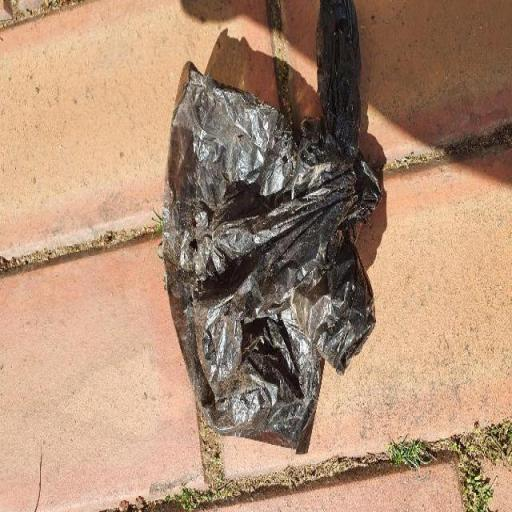plastic-bag: (165, 0, 384, 456)
